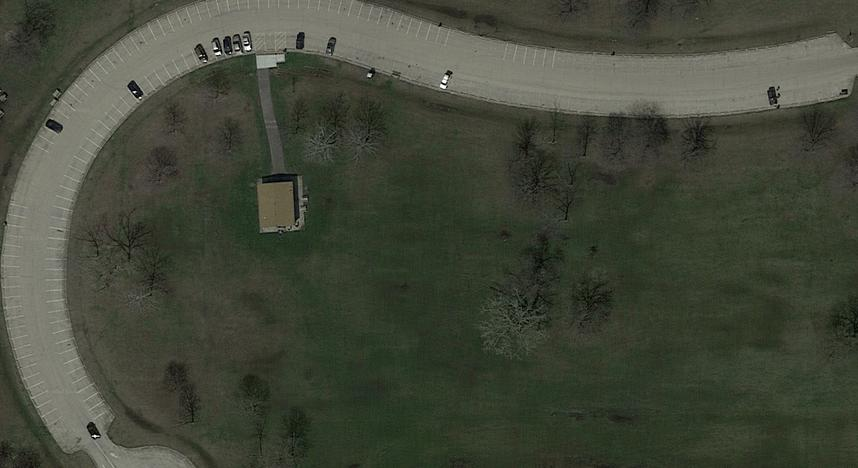parkingspot: (1, 0, 840, 454), (43, 32, 257, 432), (285, 31, 848, 116), (263, 31, 276, 51)
